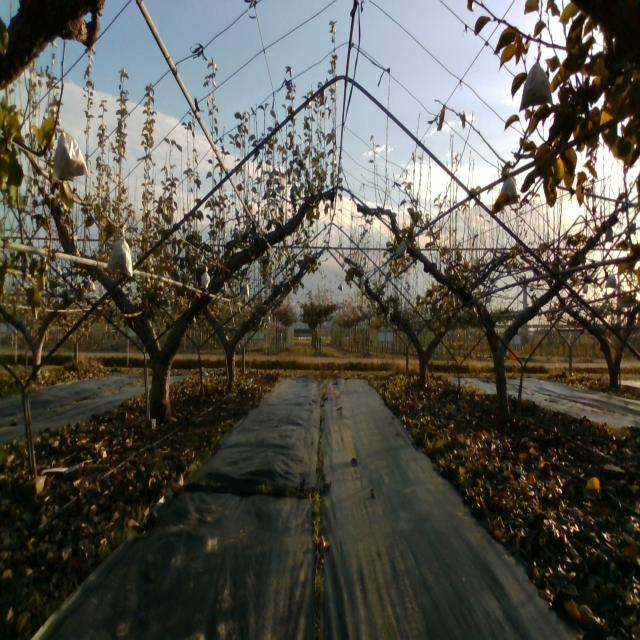pearbags: (519, 50, 553, 114), (52, 125, 88, 180), (108, 225, 134, 277), (500, 178, 517, 203), (396, 239, 406, 259)
